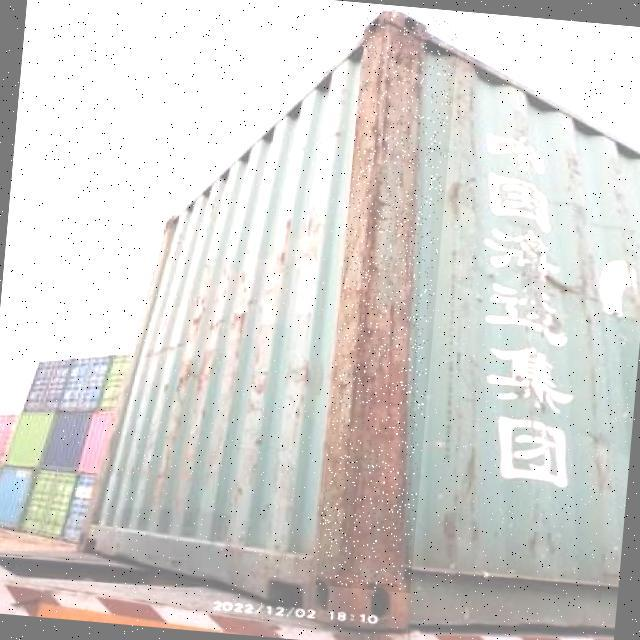Rust: (317, 12, 431, 592)
